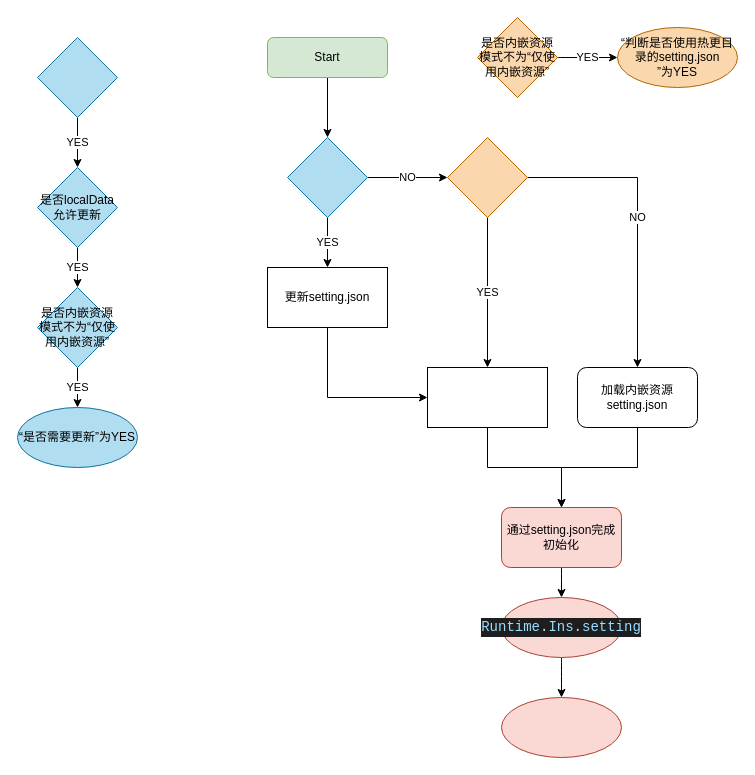
Image size: 755x775. Some labels were removed from this diagram. Here are the shapes that lost their labels. From the top down, the centre of each, then its label:
point 77,77: 是网络资源模式
point 327,177: 是否需要更新
point 487,177: 判断是否使用热更目录的setting.json
point 487,397: 加载热更目录setting.json
point 561,727: Runtime . Ins . netResDir
